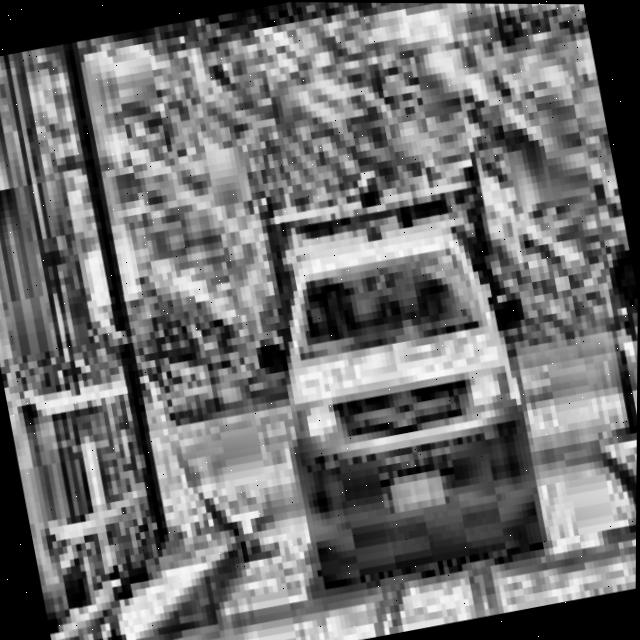light_vehicle: (170, 109, 621, 612)
